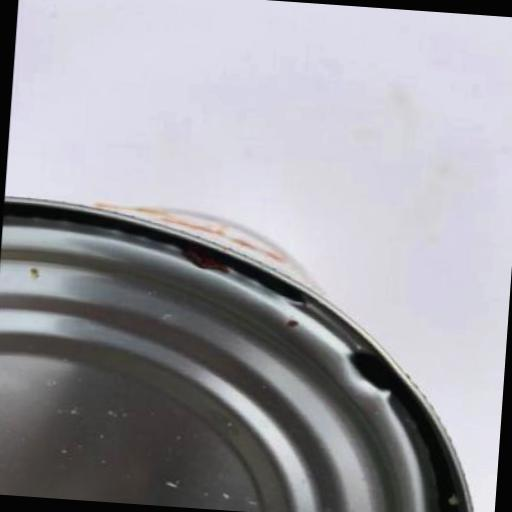metal: (0, 193, 497, 512)
